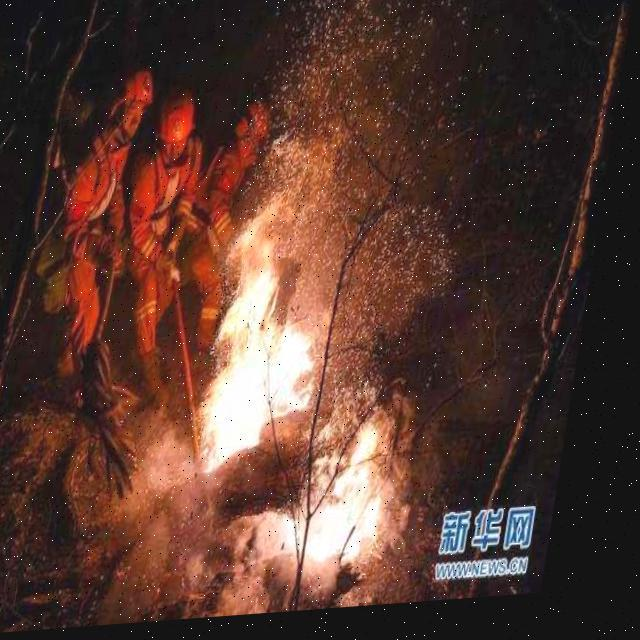Fire: (219, 258, 341, 462), (308, 447, 406, 577)
